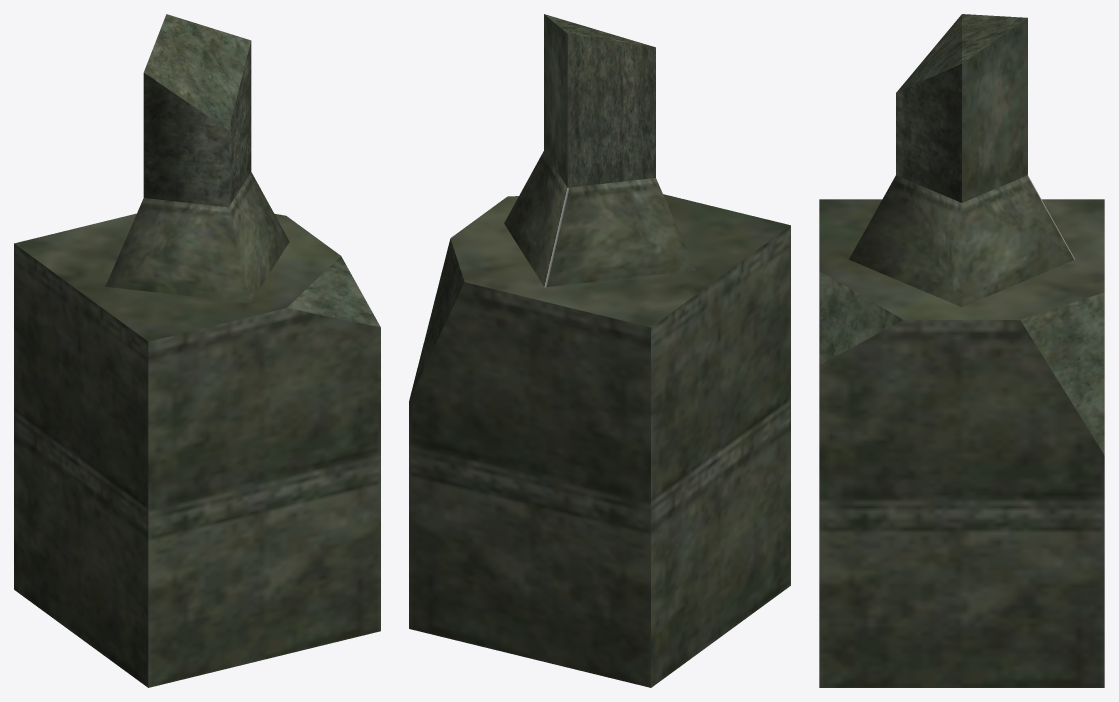
Rendered from thm_dant_jedi_temple_pillar_sm_l3.fbx.
3 renders of one model, left to right at view 1: azimuth 30°, elevation 25°; view 2: azimuth 150°, elevation 25°; view 3: azimuth 270°, elevation 25°, orthographic. The views are drawn at different scales.
Parts seen in each view (by area): view 1: mesh_node; view 2: mesh_node; view 3: mesh_node.
Boxes of the visible parts, x1=… form: mesh_node: x1=14, y1=14, x2=380, y2=687; mesh_node: x1=409, y1=14, x2=790, y2=687; mesh_node: x1=819, y1=14, x2=1104, y2=687.
Bounding box in the file's own units: 2 × 4.72 × 2.
Materials: 1 (1 with a texture image).
